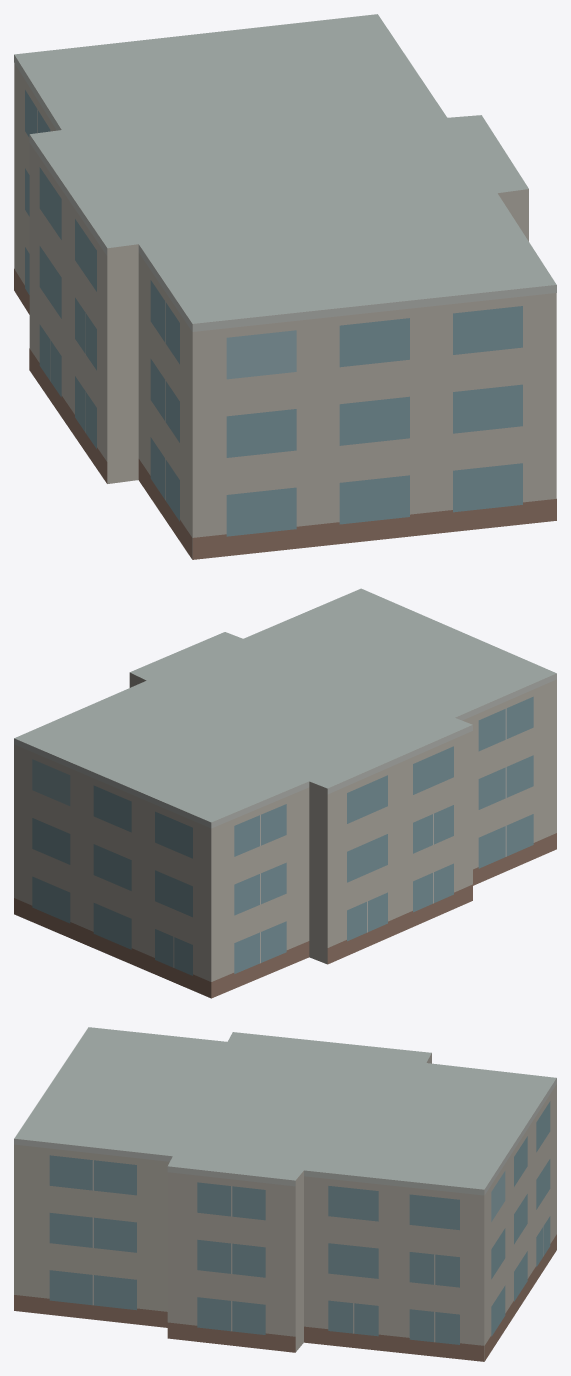
The model's file is survey-upis-33046828.glb.
The picture shows the model from 3 angles, top to bottom: view 1: azimuth 30°, elevation 25°; view 2: azimuth 150°, elevation 25°; view 3: azimuth 270°, elevation 25°; orthographic projection. The views are drawn at different scales.
Parts seen in each view (by area): view 1: survey-upis-33046828.tmp; view 2: survey-upis-33046828.tmp; view 3: survey-upis-33046828.tmp.
Part boxes in pixels (x1,y1,x2,y2): survey-upis-33046828.tmp: (14, 14, 556, 559); survey-upis-33046828.tmp: (14, 588, 556, 998); survey-upis-33046828.tmp: (14, 1027, 556, 1361).
Size of the model in its own units: 14.49 by 7.15 by 20.44.
